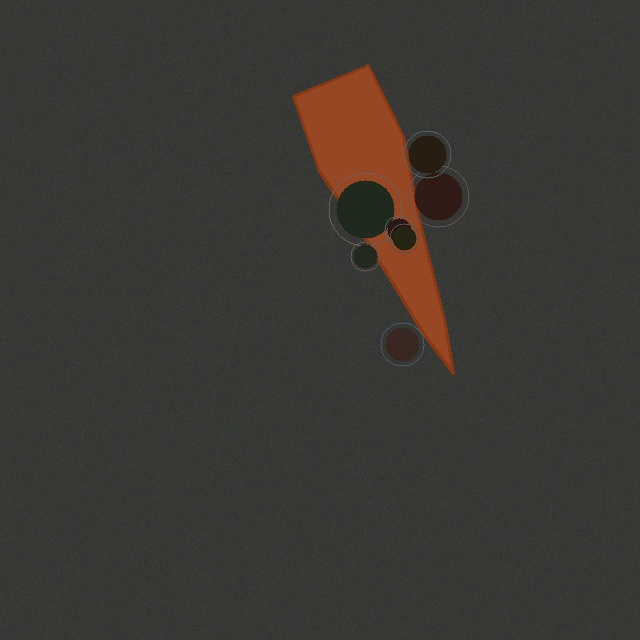Rotten_Carrot: (285, 57, 461, 381)
